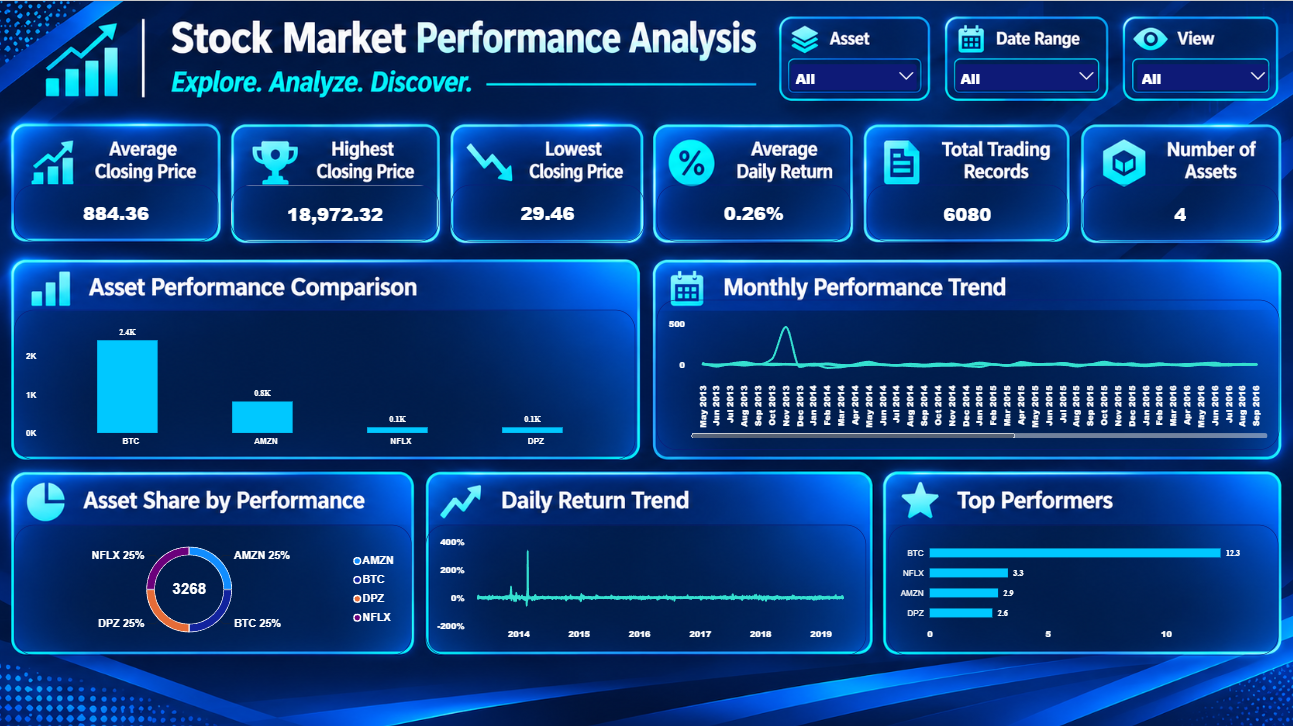

The page's visual inventory and layout, read from the dashboard file:
{"tool":"powerbi","page":{"name":"Market Overview","canvas":[1920,1080],"ordinal":0},"visuals":[{"type":"cardVisual","fields":{"Data":["Fact_Stock_Prices.Average Closing Price"]},"box":[24.7,271.7,302.6,84.4],"z":0},{"type":"cardVisual","fields":{"Data":["Fact_Stock_Prices.Lowest Closing Price"]},"box":[671,271.7,288.2,84.4],"z":1000},{"type":"cardVisual","fields":{"Data":["Fact_Stock_Prices.Average Daily Return"]},"box":[975.6,271.7,288.2,84.4],"z":2000},{"type":"cardVisual","fields":{"Data":["Fact_Stock_Prices.Total Trading Records"]},"box":[1286.5,271.7,298.5,84.4],"z":3000},{"type":"cardVisual","fields":{"Data":["Fact_Stock_Prices.Number of Assets"]},"box":[1605.5,271.7,292.3,84.4],"z":4000},{"type":"cardVisual","fields":{"Data":["Fact_Stock_Prices.Highest Closing Price"]},"box":[343.7,271.7,308.7,84.4],"z":5000},{"type":"clusteredColumnChart","fields":{"Category":["Dim_Asset.Asset"],"Y":["Fact_Stock_Prices.Average Closing Price"]},"box":[24.7,456.9,920.1,222.3],"z":6000},{"type":"donutChart","fields":{"Category":["Fact_Monthly_Performance.Asset"],"Y":["Fact_Stock_Prices.Positive Days by Asset"]},"box":[23.9,774.9,588.7,193.5],"z":7000},{"type":"lineChart","fields":{"Category":["Fact_Stock_Prices.Date"],"Series":["Fact_Stock_Prices.Asset"],"Y":["Fact_Stock_Prices.Average Daily Return"]},"box":[634,776,652.5,193.5],"z":8000},{"type":"clusteredBarChart","fields":{"Category":["Fact_Monthly_Performance.Asset"],"Y":["Avg(Fact_Monthly_Performance.MonthlyReturn)"]},"box":[1319.6,774.9,578.4,193.5],"z":9000},{"type":"slicer","fields":{"Values":["Dim_Asset.Asset"]},"box":[1171.2,88.5,195.5,45.3],"z":10000},{"type":"slicer","fields":{"Values":["Dim_Date.Date"]},"box":[1414.1,88.5,218.2,45.3],"z":11000},{"type":"slicer","fields":{"Values":["Performance View.Performance View"]},"box":[1683.7,88.5,203.8,45.3],"z":12000},{"type":"lineChart","fields":{"Category":["Dim_Month.MonthYear"],"Series":["Fact_Monthly_Performance.Asset"],"Y":["Sum(Fact_Monthly_Performance.MonthlyReturn)"]},"box":[975.6,442.5,922.1,222.3],"z":13000}]}

Visuals, with their boxes in screenshot pixels (x1, y1, x2, y2), scaled from the page's 1920x1080 canvas onto the 1293x726 screenshot:
cardVisual - Fact_Stock_Prices.Average Closing Price: box=[17, 183, 220, 239]
cardVisual - Fact_Stock_Prices.Lowest Closing Price: box=[452, 183, 646, 239]
cardVisual - Fact_Stock_Prices.Average Daily Return: box=[657, 183, 851, 239]
cardVisual - Fact_Stock_Prices.Total Trading Records: box=[866, 183, 1067, 239]
cardVisual - Fact_Stock_Prices.Number of Assets: box=[1081, 183, 1278, 239]
cardVisual - Fact_Stock_Prices.Highest Closing Price: box=[231, 183, 439, 239]
clusteredColumnChart - Dim_Asset.Asset x Fact_Stock_Prices.Average Closing Price: box=[17, 307, 636, 457]
donutChart - Fact_Monthly_Performance.Asset x Fact_Stock_Prices.Positive Days by Asset: box=[16, 521, 413, 651]
lineChart - Fact_Stock_Prices.Date x Fact_Stock_Prices.Asset: box=[427, 522, 866, 652]
clusteredBarChart - Fact_Monthly_Performance.Asset x Avg(Fact_Monthly_Performance.MonthlyReturn): box=[889, 521, 1278, 651]
slicer - Dim_Asset.Asset: box=[789, 59, 920, 90]
slicer - Dim_Date.Date: box=[952, 59, 1099, 90]
slicer - Performance View.Performance View: box=[1134, 59, 1271, 90]
lineChart - Dim_Month.MonthYear x Fact_Monthly_Performance.Asset: box=[657, 297, 1278, 447]
